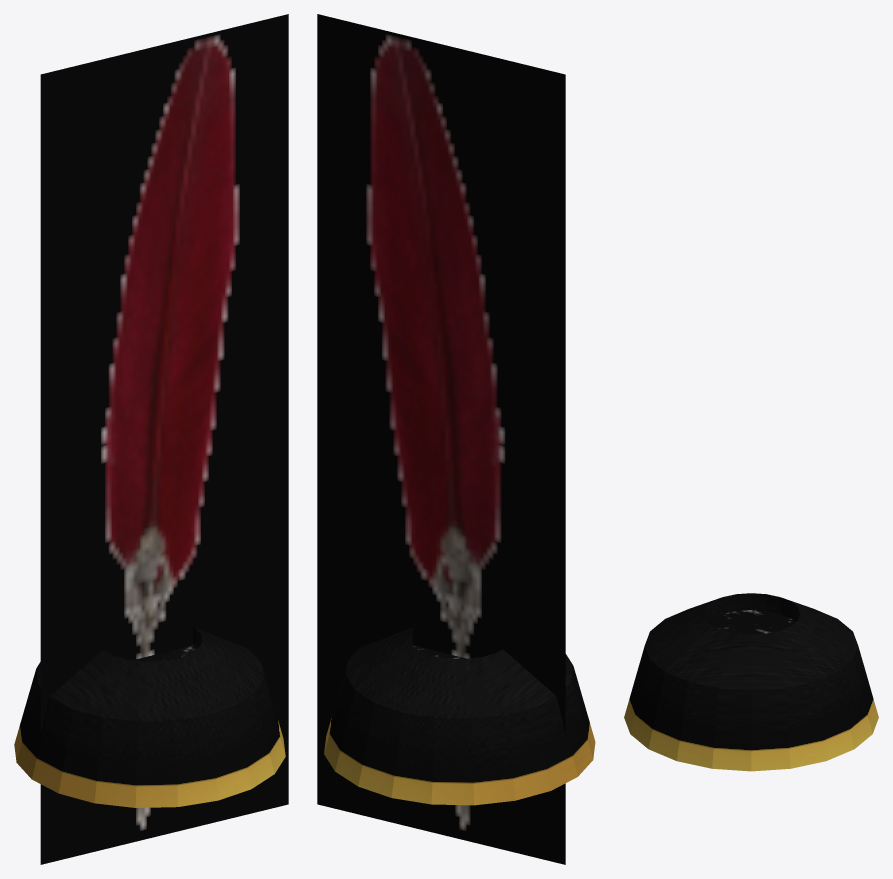
The model's file is penholder.glb.
3 views of the same model, side by side, from view 1: azimuth 30°, elevation 25°; view 2: azimuth 150°, elevation 25°; view 3: azimuth 270°, elevation 25° (orthographic). The views are drawn at different scales.
Visible parts, largest first — view 1: penholder; view 2: penholder; view 3: penholder.
Part boxes in pixels (left/top/right/bottom): penholder: left=14, top=14, right=288, bottom=864; penholder: left=317, top=14, right=595, bottom=864; penholder: left=624, top=593, right=878, bottom=771.
Bounding box in the file's own units: 0.5179 × 1.51 × 0.4733.
Materials: 2 (2 with a texture image).
